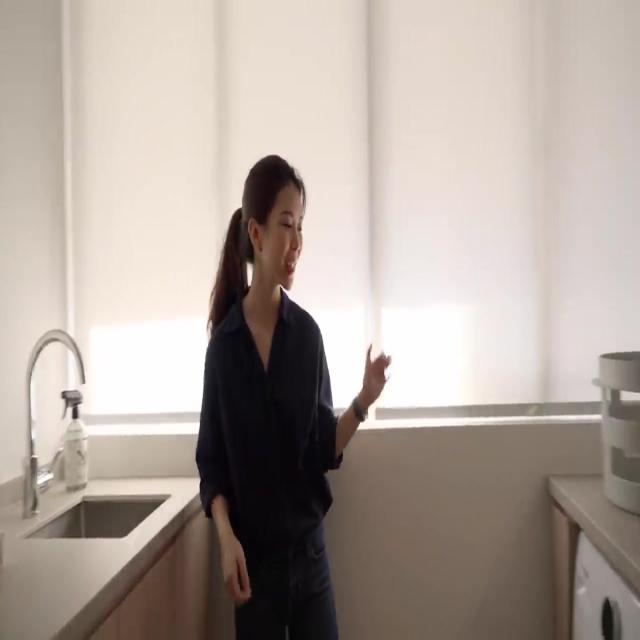obstacle: (547, 472, 639, 638)
person: (195, 153, 392, 638)
